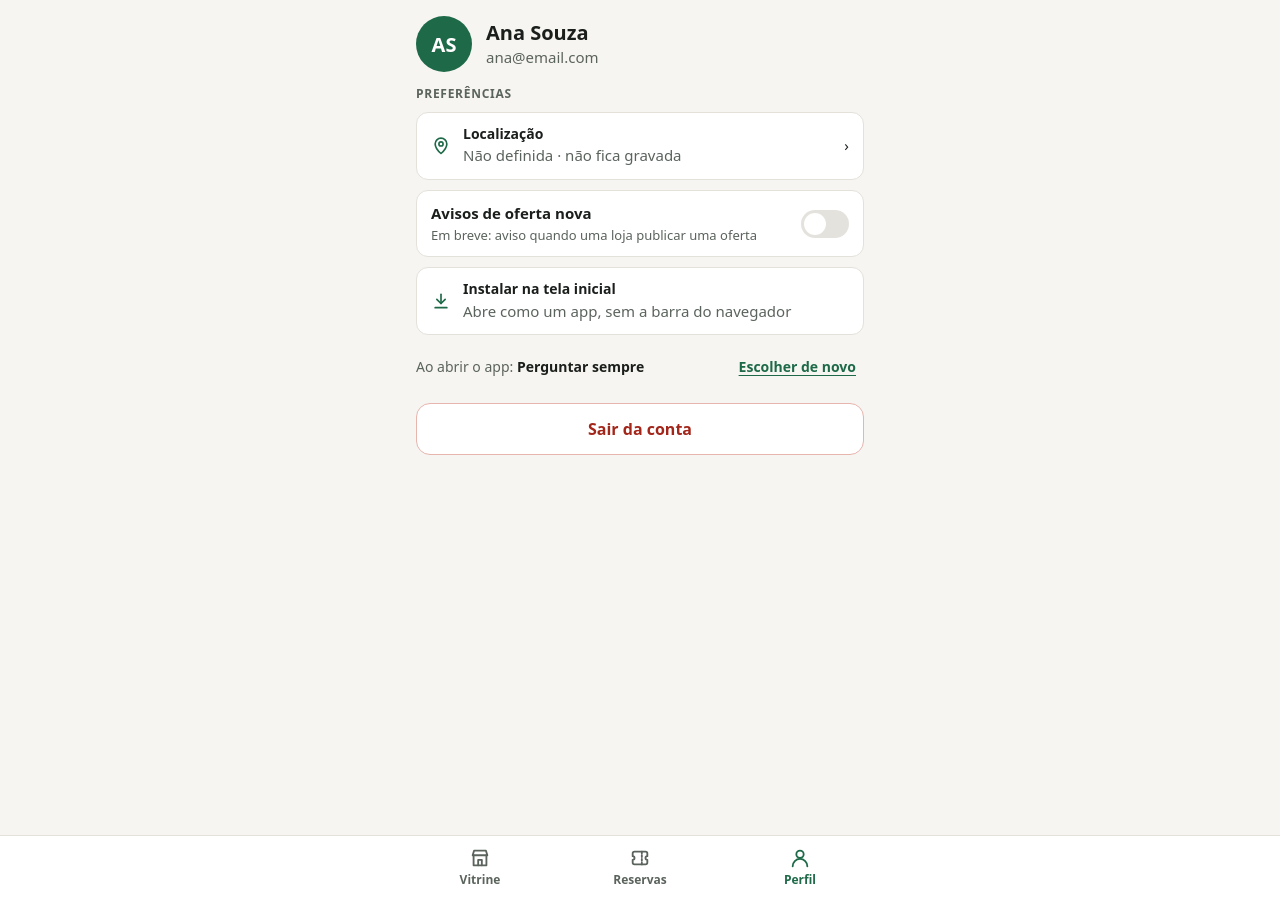
C9 · Instalar na tela inicial › com o pedido: o botão abre o pedido do navegador; depois de instalado, só informa
The image size is (1280, 900).
Step 1. Click the button "Instalar na tela inicial" → (640, 301), box [416,268,864,335]
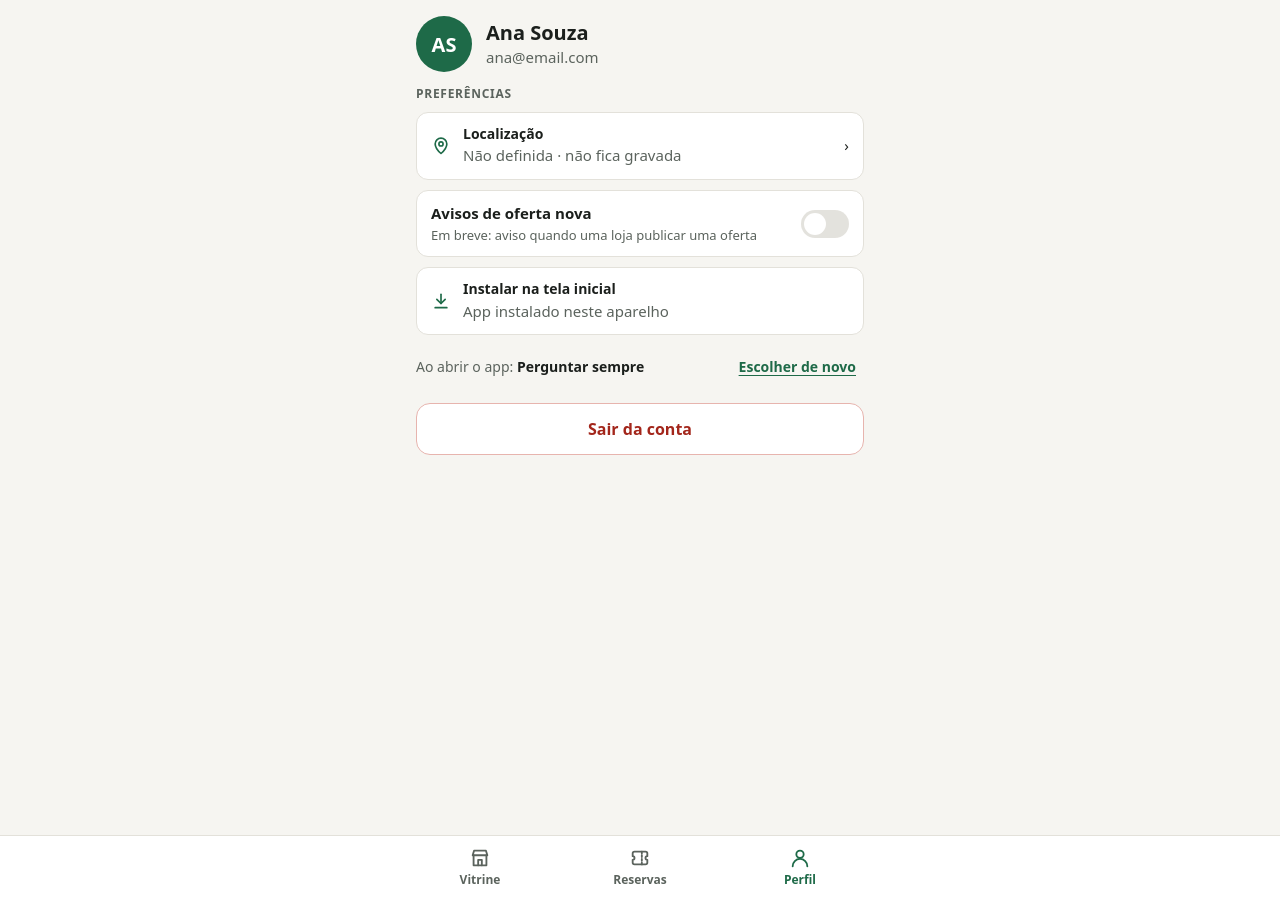
Expected: the text "App instalado neste aparelho" is shown, [463,301,669,321]
